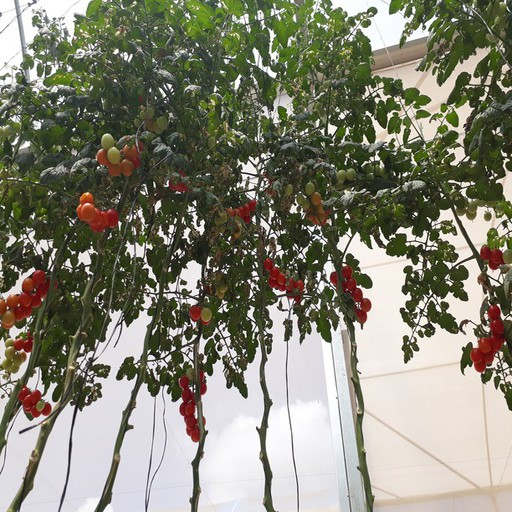green tomato bunch: (454, 196, 504, 219), (130, 105, 169, 133), (333, 162, 384, 180), (204, 272, 227, 298)
mixed tomato bunch: (96, 133, 144, 174), (1, 333, 37, 374), (296, 181, 324, 226), (480, 245, 512, 271), (188, 303, 216, 327)
red tomato bunch: (1, 269, 60, 329), (330, 267, 370, 323), (179, 369, 206, 442), (263, 257, 303, 301), (76, 191, 120, 230), (17, 386, 52, 419), (223, 198, 259, 223), (166, 171, 203, 192)
